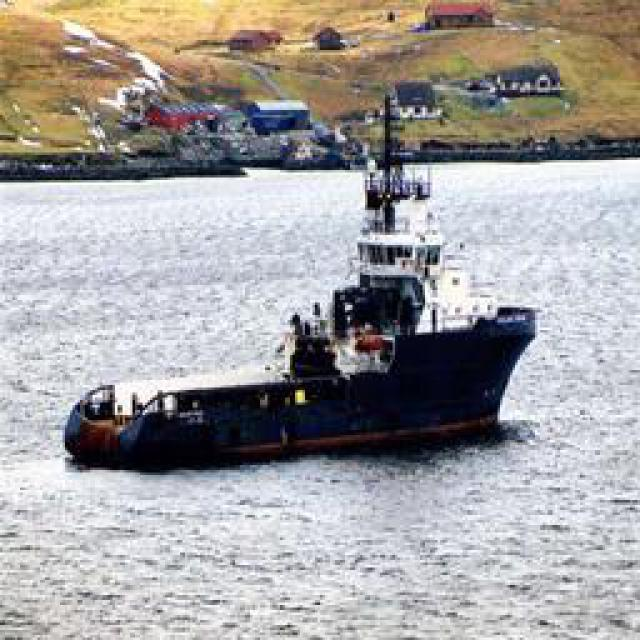Ship: (75, 166, 535, 474)
